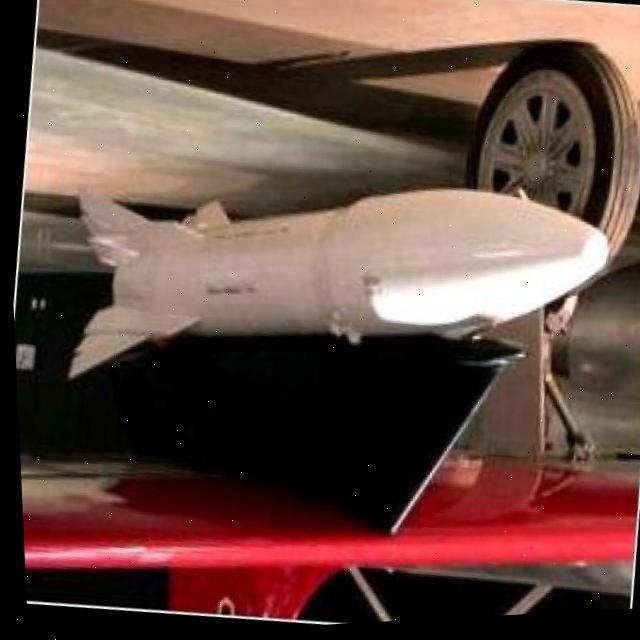missile: (39, 131, 627, 447)
